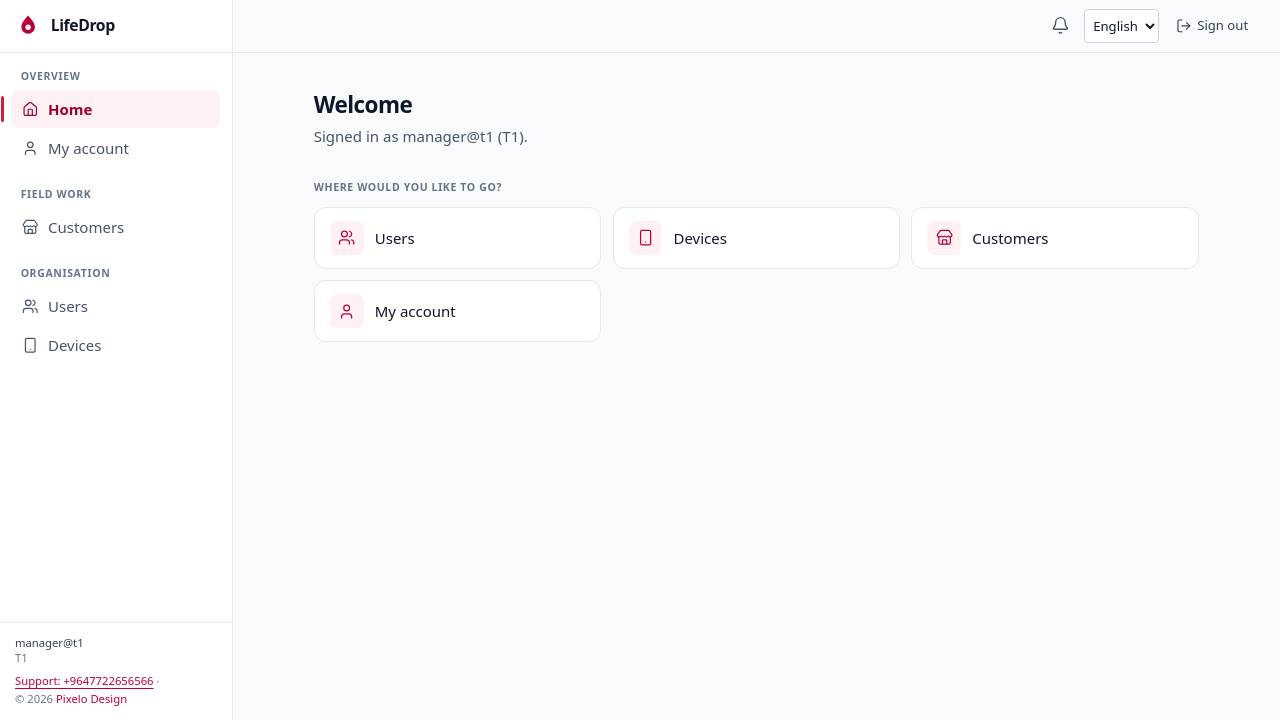
Scenario: panel management screens › approves and blocks devices and shows a server refusal
Click the button "Devices".
click(116, 346)  # box [11,327,220,364]
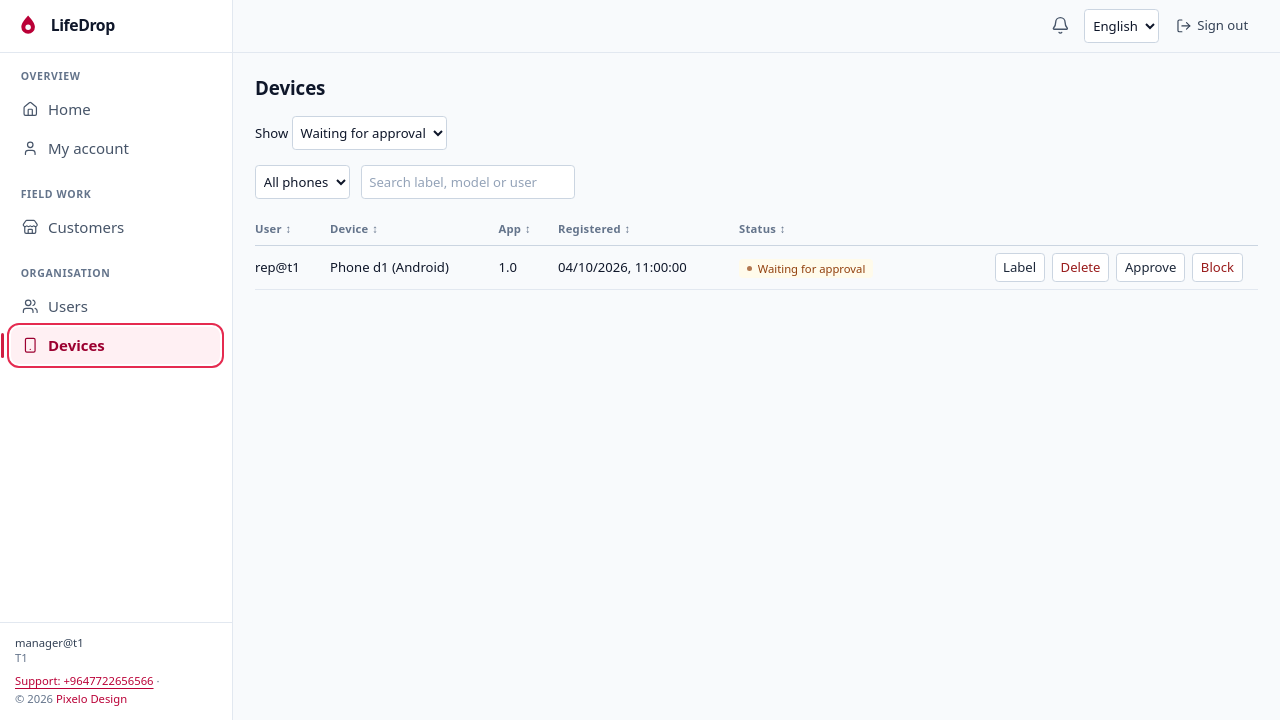
Click the button "Approve".
click(1151, 267)  # box [1116,253,1185,282]
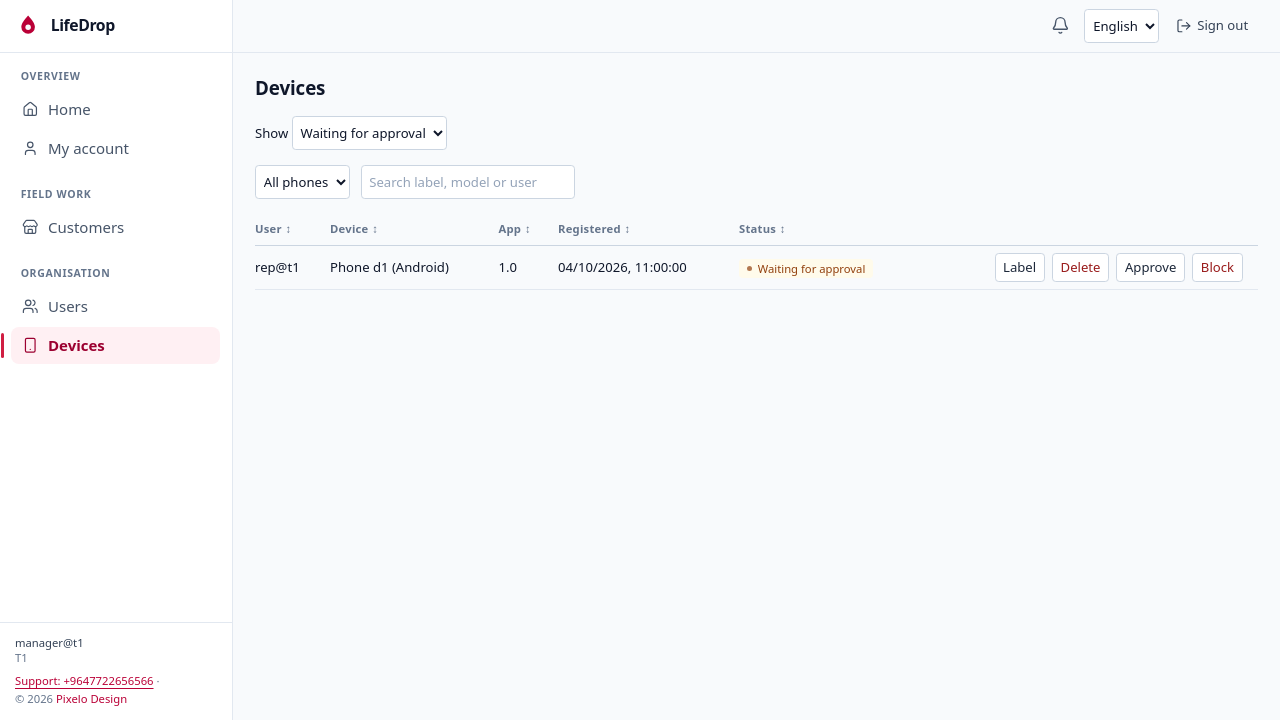
Click the button "Block".
click(1217, 267)  # box [1192,253,1242,282]
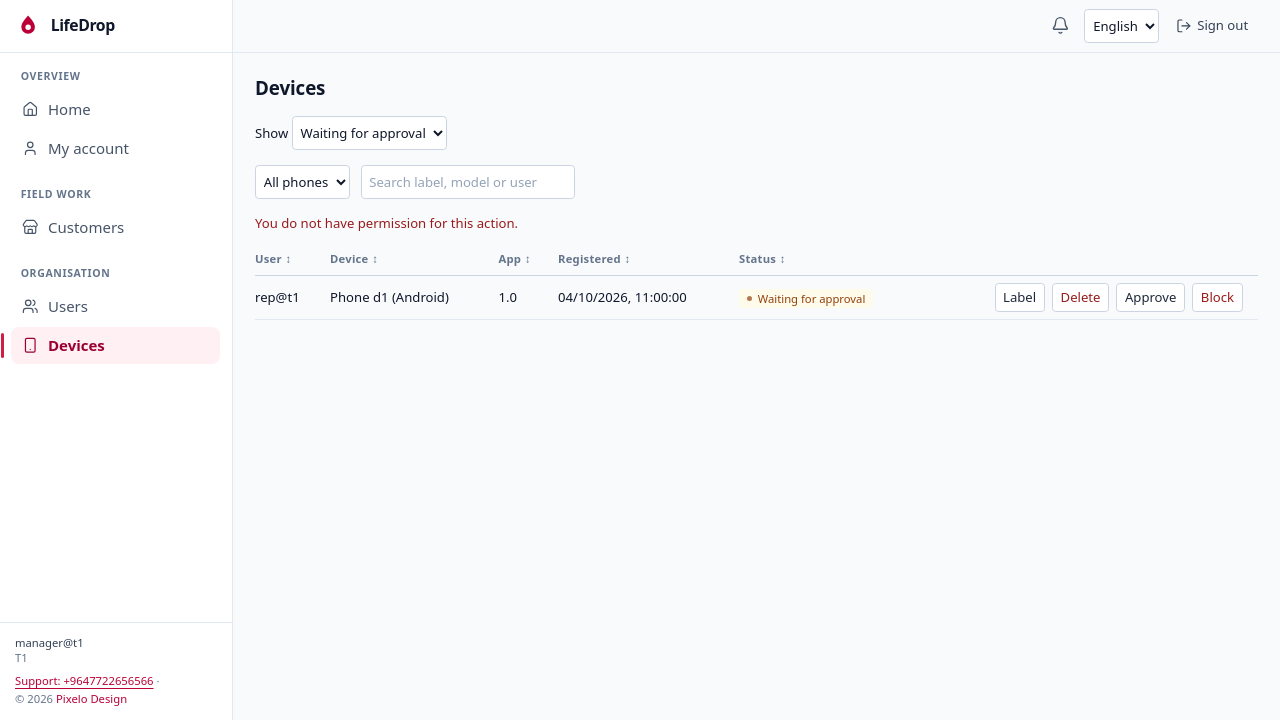
Expected: the message reads "You do not have permission for this action.", [255,214,518,232]
